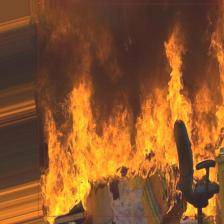fire: (38, 3, 224, 216)
